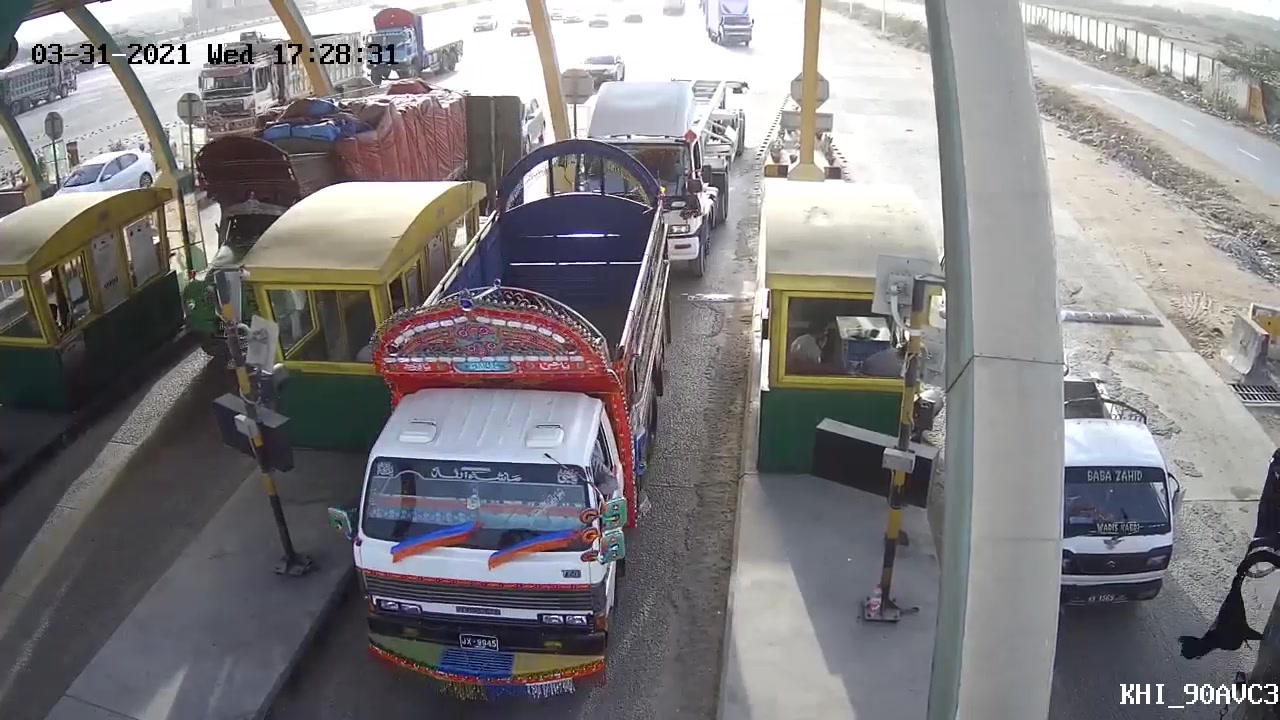F5: (348, 159, 674, 695)
